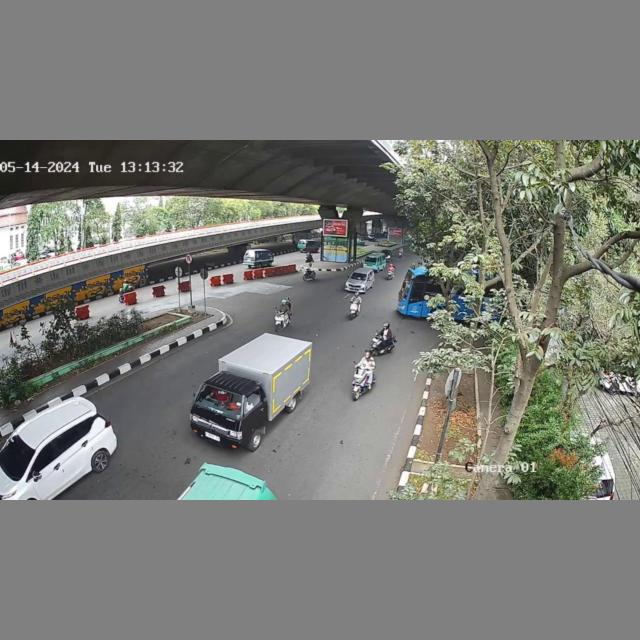windshield: (197, 383, 244, 420)
